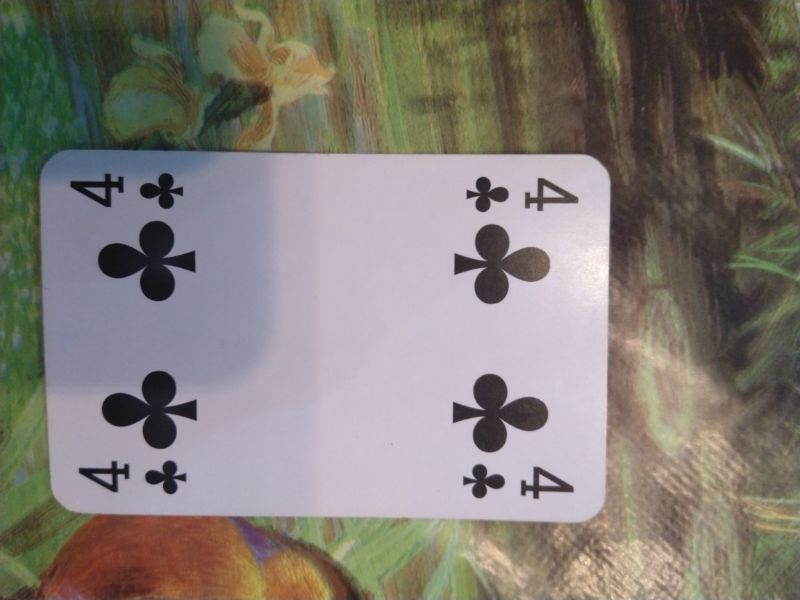4c: (462, 169, 585, 215), (66, 166, 190, 211), (461, 461, 581, 501), (75, 457, 192, 497)
